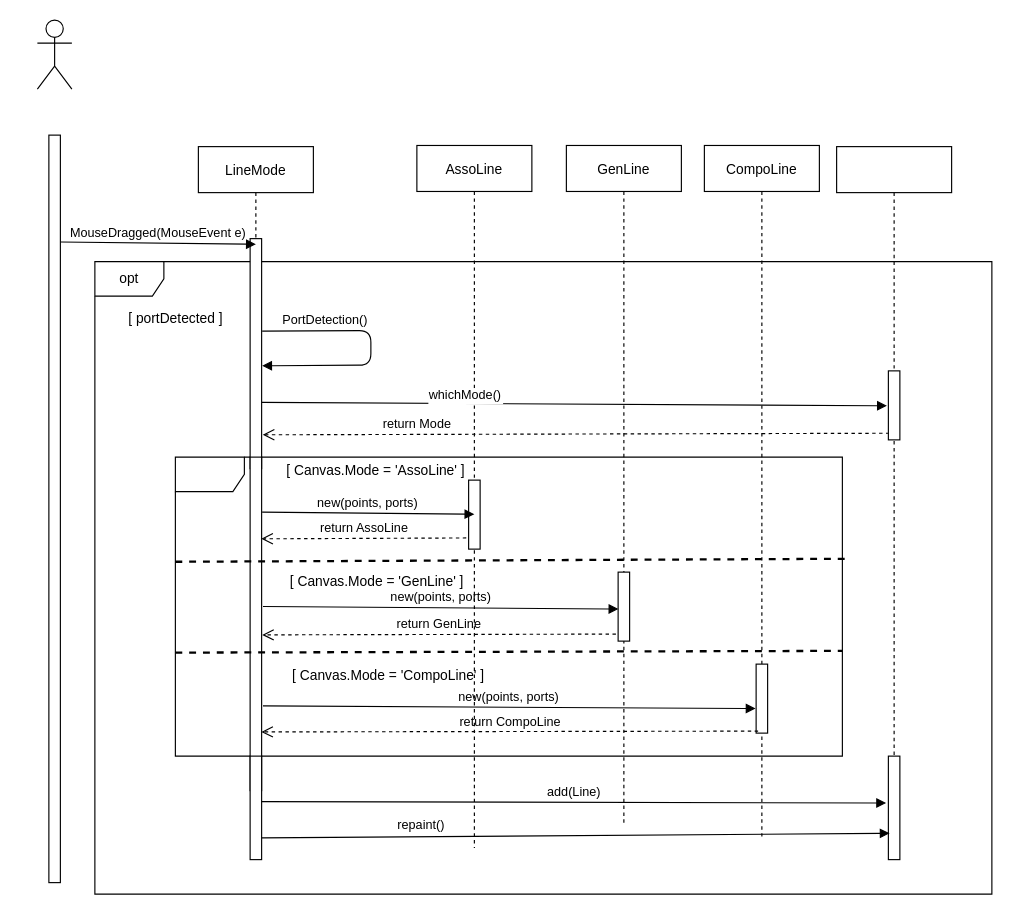
Image size: 1012x914. Some labels were removed from this diagram. The box of each missing label's shape, as (x1, y1, x2, y2) in pixels:
alt: (174, 456, 842, 756)
Canvas: (835, 145, 952, 837)
UseCase B: (36, 19, 72, 89)
